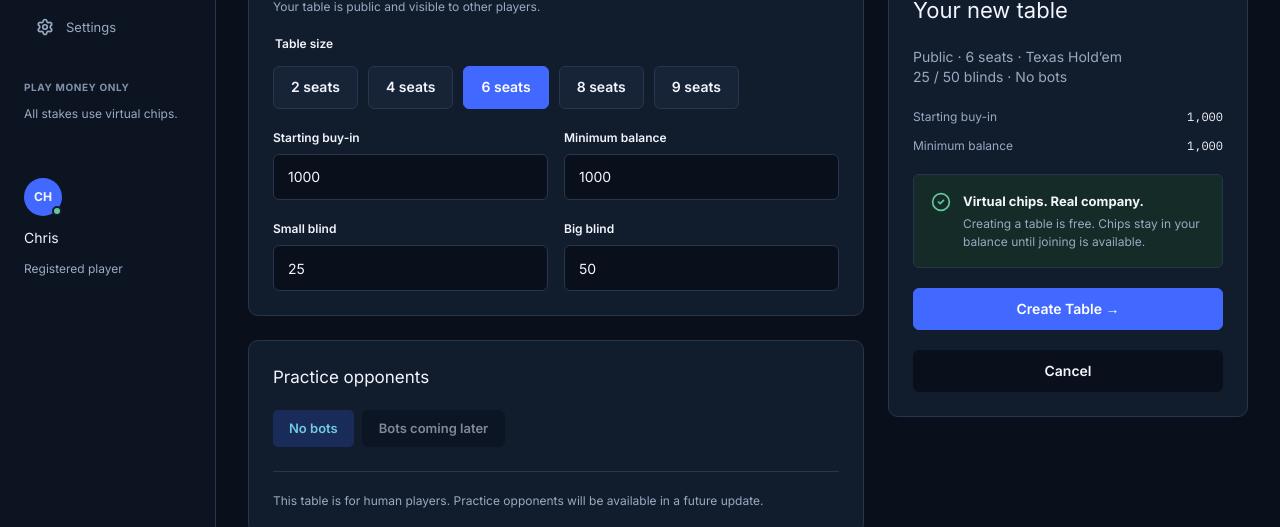
Test case: validates empty name, blind relationship and minimum balance before sending
This screenshot has width=1280, height=527.
(page scrolled)
Click the button "Create Table →" at (1068, 309), box [913, 288, 1223, 330]
(page scrolled)
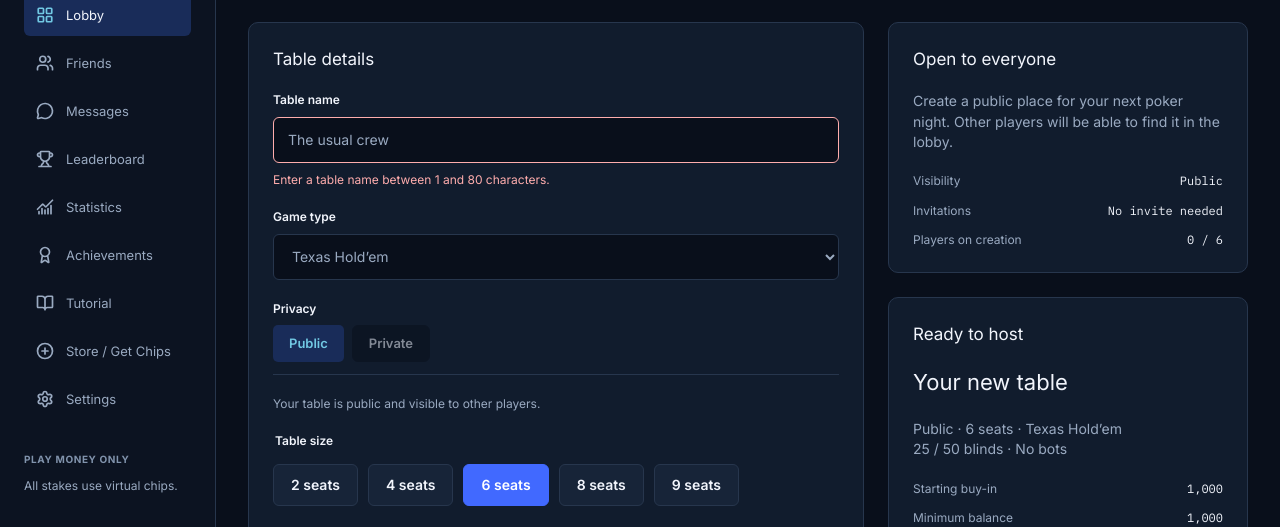
Check: the text "Enter a table name between 1 and 80 characters." is shown, box [273, 172, 550, 187]
Type "Friday poker" into the field labelled "Table name" at (556, 140), box [273, 117, 839, 163]
(page scrolled)
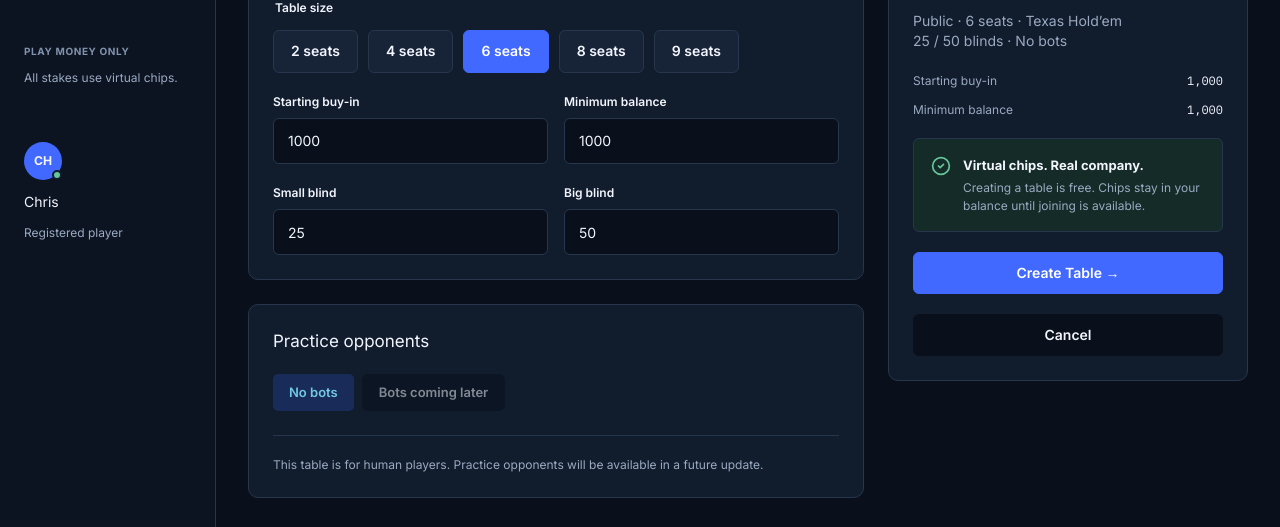
Replace the text in the number field labelled "Big blind" with "51" at (702, 232), box [564, 209, 839, 255]
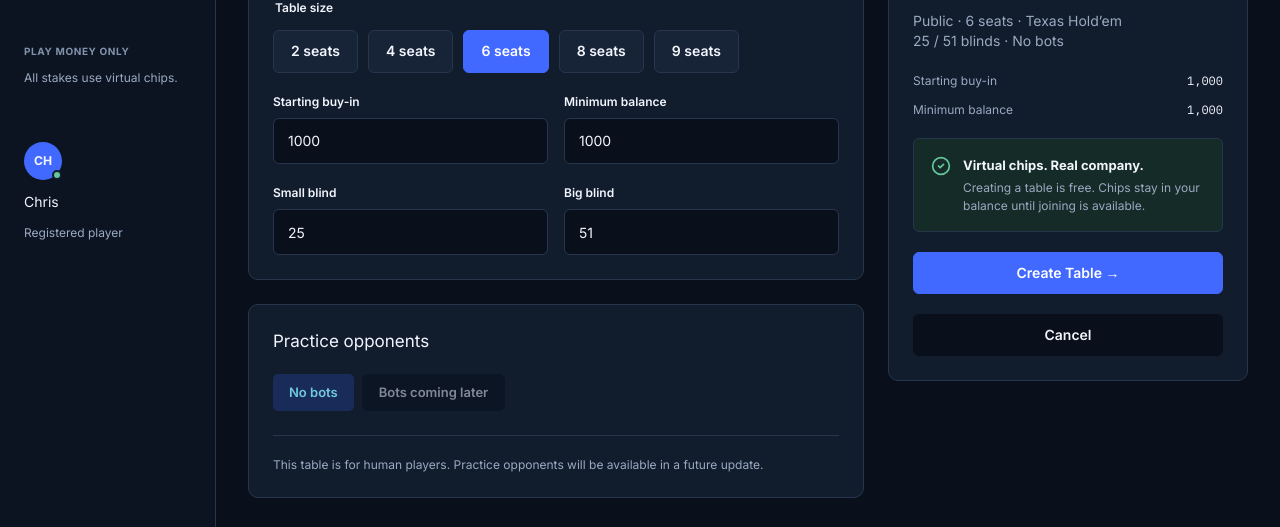
Replace the text in the number field labelled "Minimum balance" with "900" at (702, 141), box [564, 118, 839, 164]
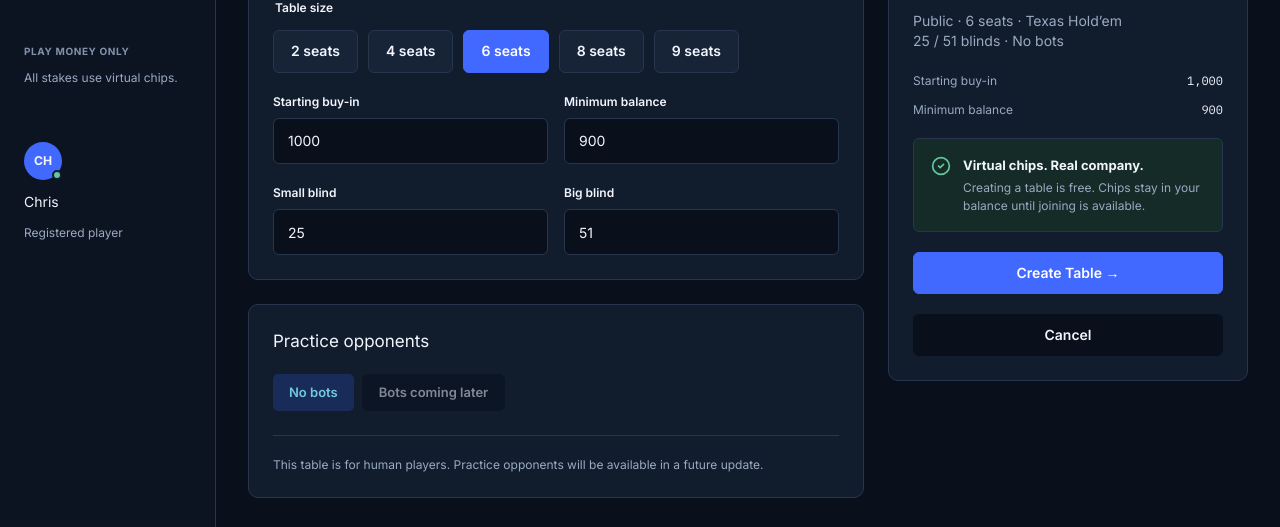
Click the button "Create Table →" at (1068, 273), box [913, 252, 1223, 294]
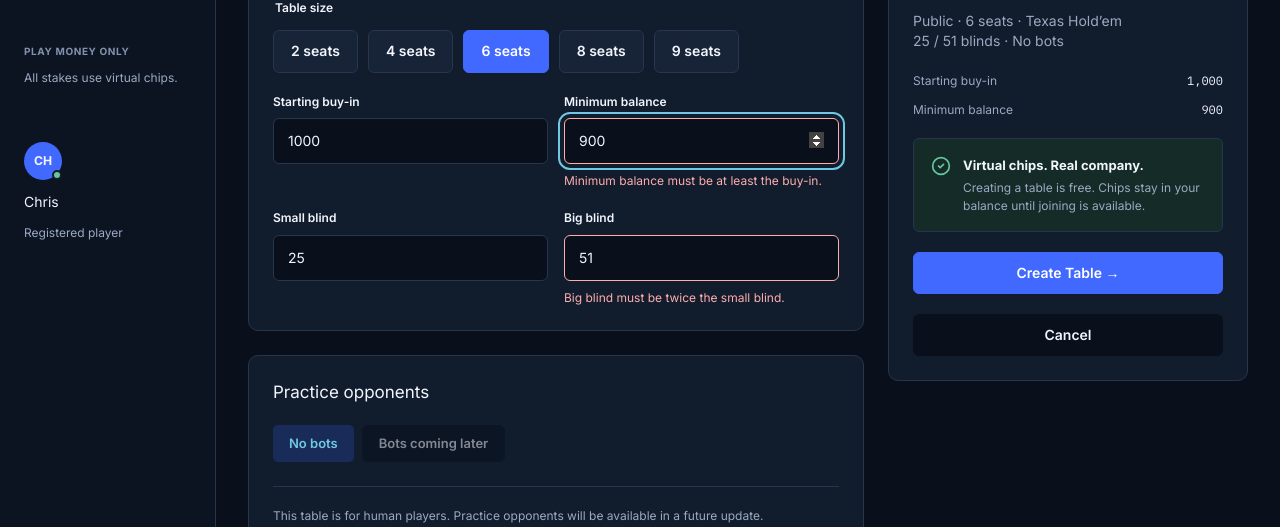
Check: the text "Big blind must be twice the small blind." is shown, box [564, 290, 785, 305]
Check: the text "Minimum balance must be at least the buy-in." is shown, box [564, 172, 839, 189]
